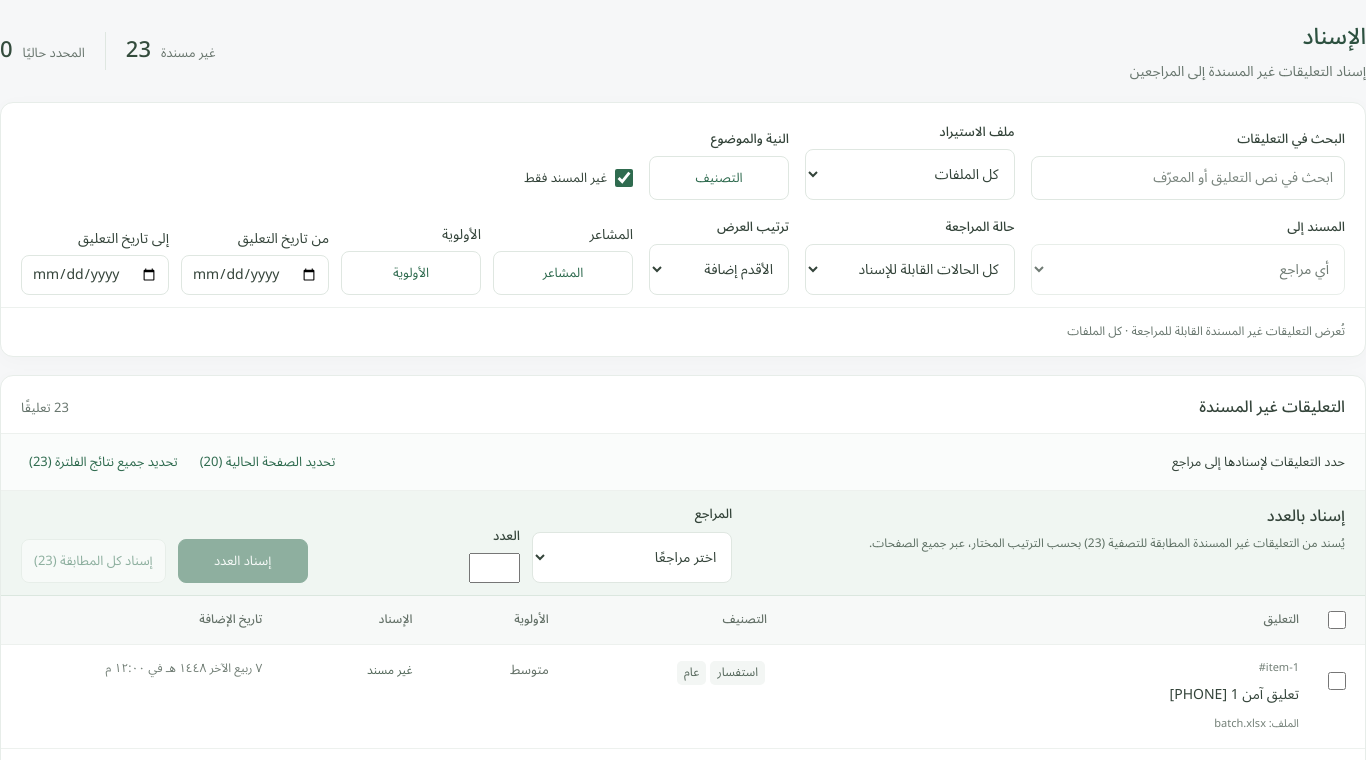
Scenario: Admin Assignment workspace › toggles current-page selection without silently selecting other pages
Click the checkbox named "تحديد item-1" at (1337, 681), box [1328, 672, 1346, 690]
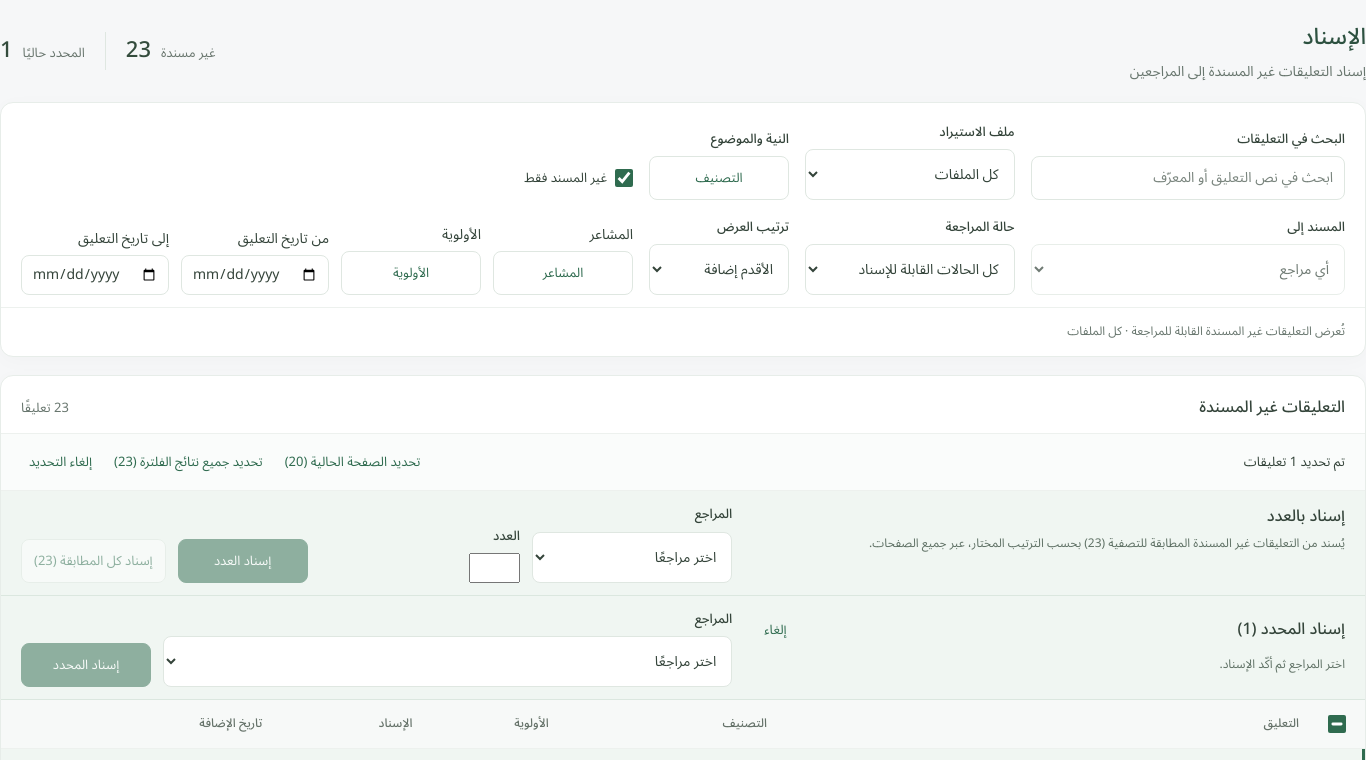
Click the checkbox named "تحديد جميع عناصر الصفحة" at (1337, 724), box [1328, 715, 1346, 733]
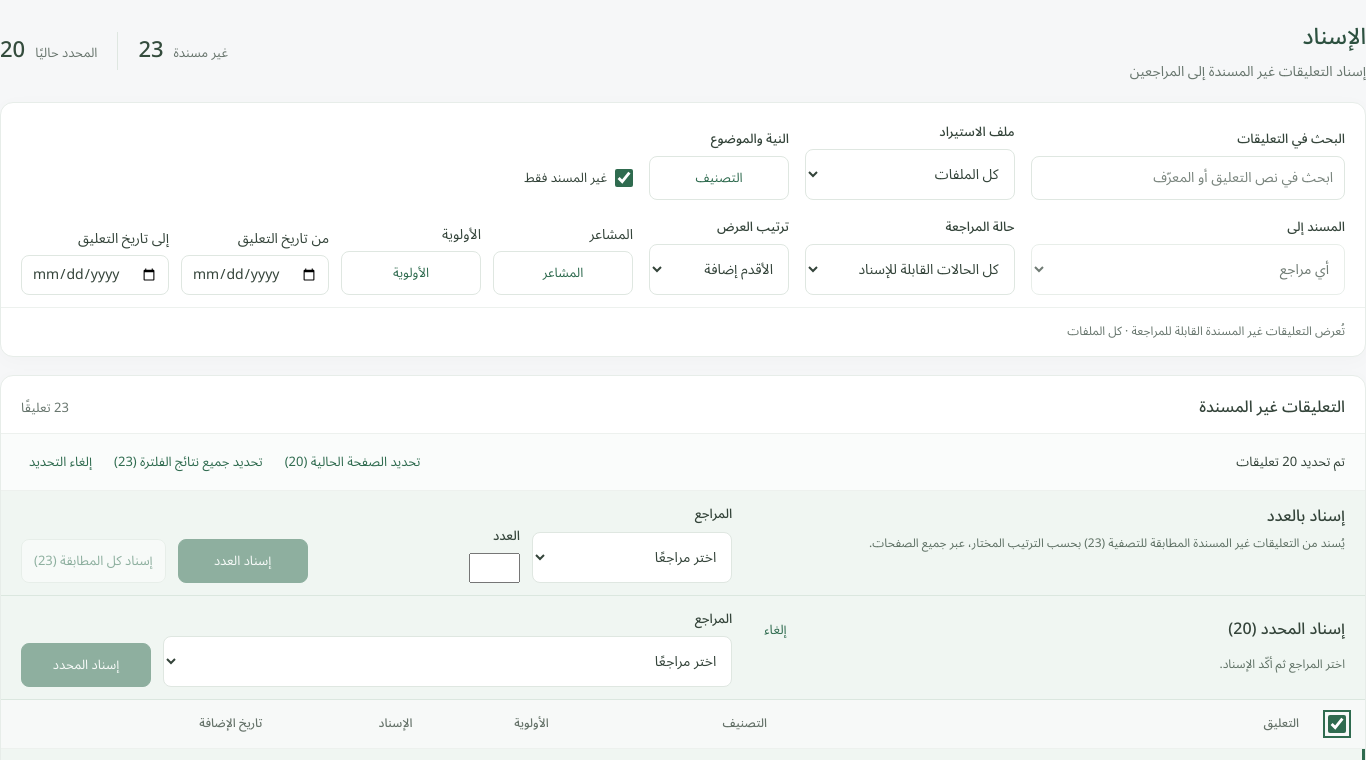
Expected: the heading "إسناد المحدد (20)" is shown, [1228, 616, 1345, 643]
Click the checkbox named "تحديد جميع عناصر الصفحة" at (1337, 724), box [1328, 715, 1346, 733]
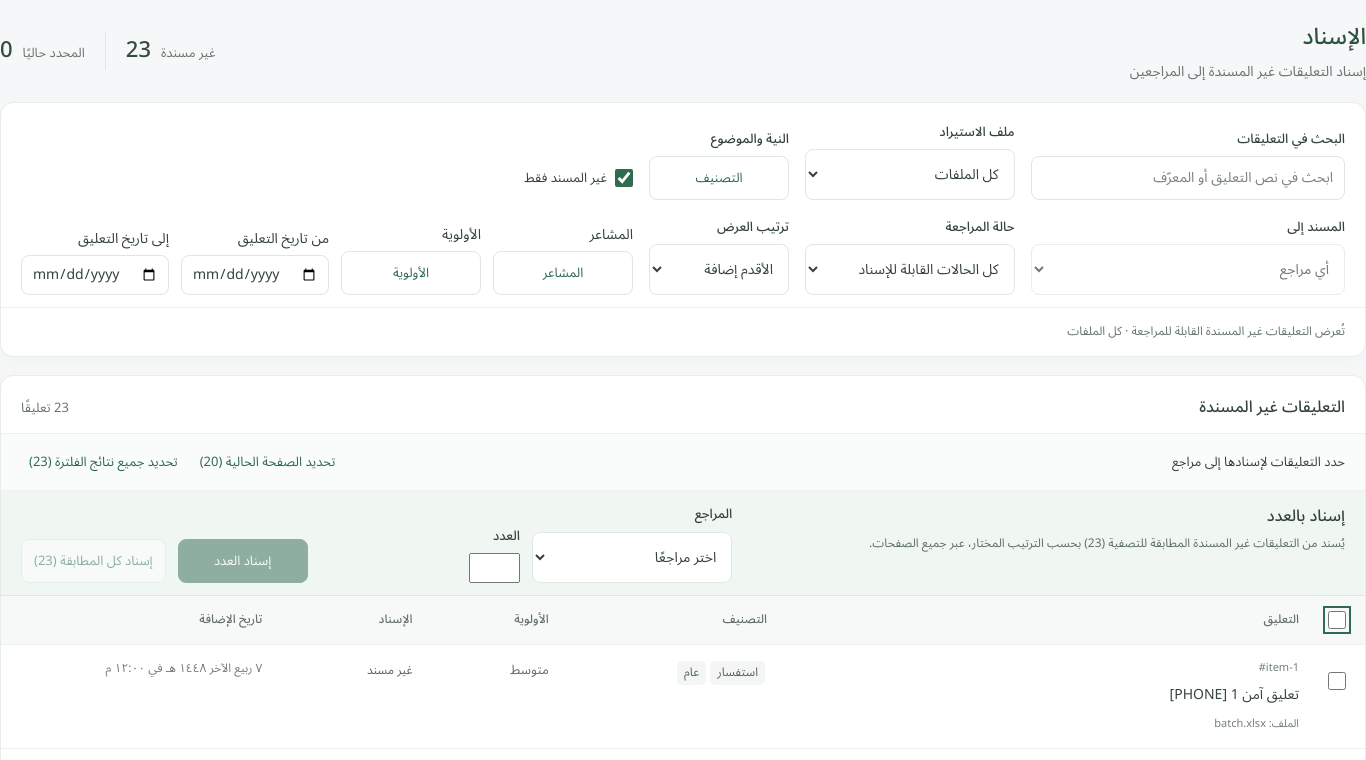
Expected: the text labelled "اختر المراجع" is gone
